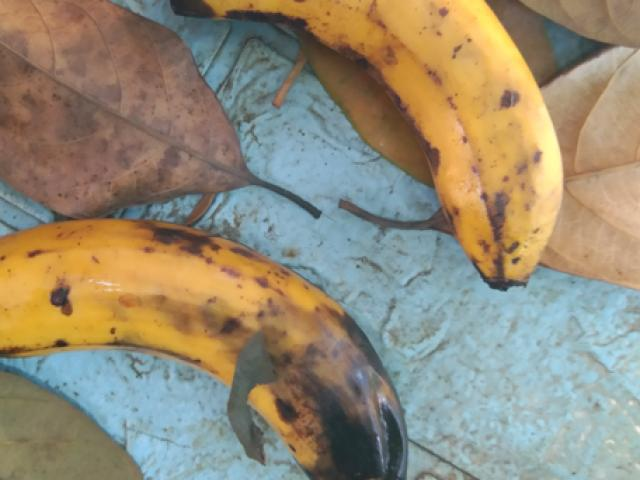overripe: (171, 0, 580, 285), (0, 188, 311, 385)
rotten: (191, 270, 447, 479)
